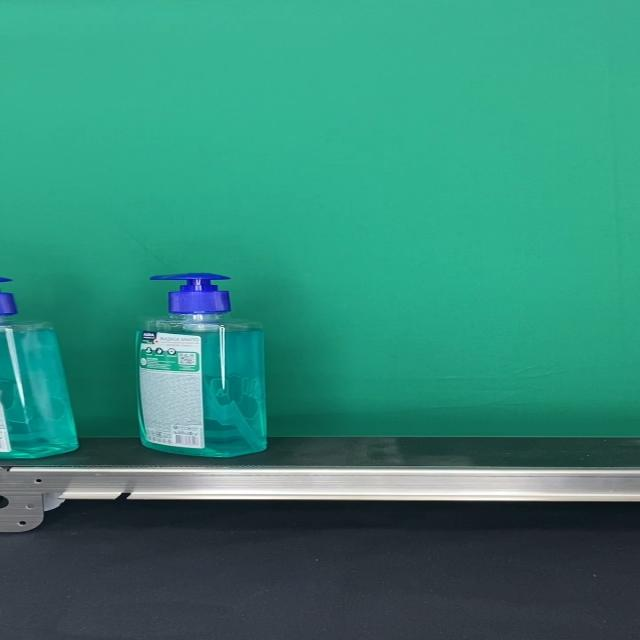Bottle: (134, 273, 268, 457)
Cap: (149, 273, 232, 315)
